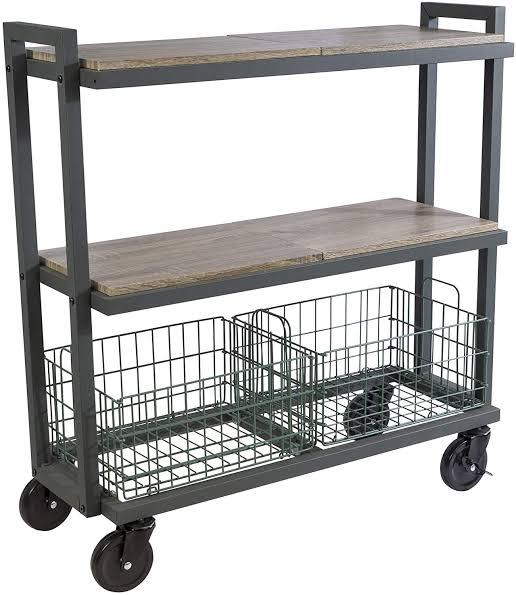Carts: (2, 2, 516, 593)
